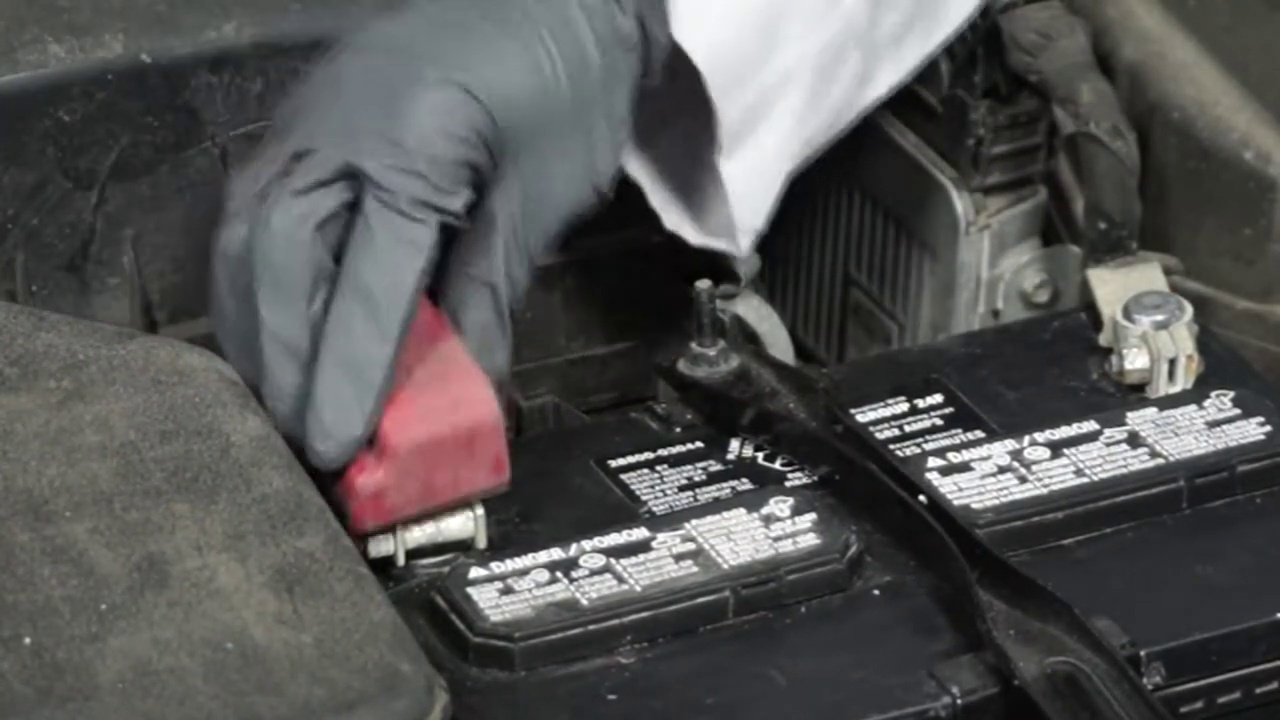battery: (306, 265, 1280, 677)
neg_connected: (1051, 200, 1244, 392)
pos_touched: (235, 164, 550, 573)
